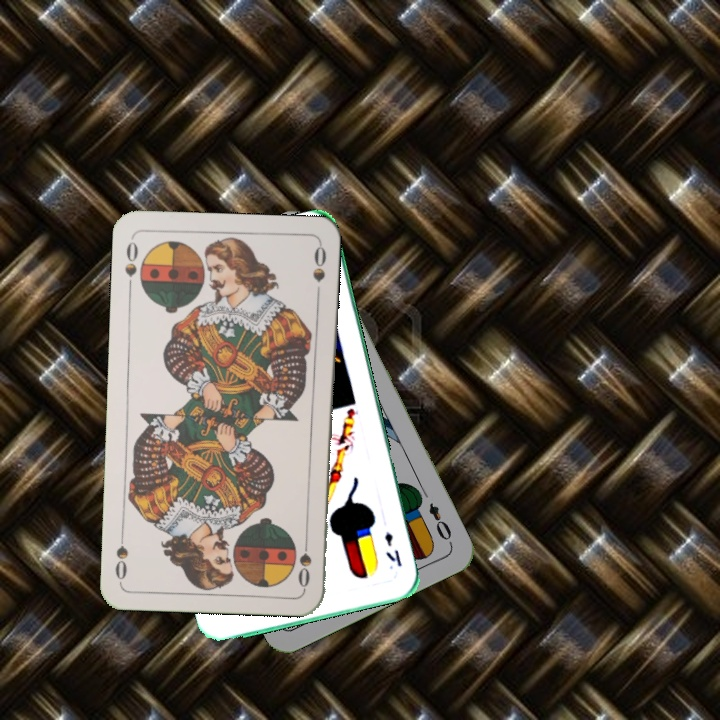EK: (380, 528, 405, 570)
EO: (424, 499, 455, 548)
SO: (294, 531, 314, 590), (121, 235, 141, 294)
